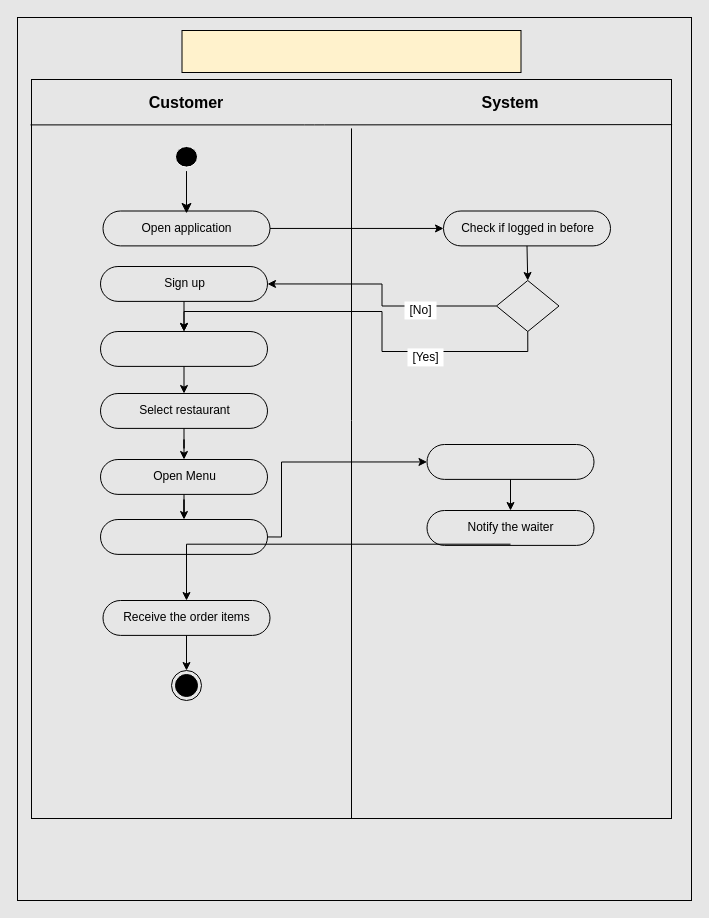
This 709x918 diagram has some shape labels left out. Each missing label, with the centre of its shape:
Activity diagram for use case : 'Make order': pixel 351 51
Add menu items to cart: pixel 184 536
Notify chef: pixel 510 461
Open home page: pixel 184 348
